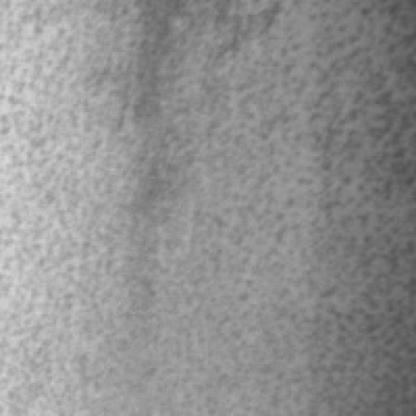pitted_surface: (156, 2, 410, 410), (6, 2, 227, 408)
